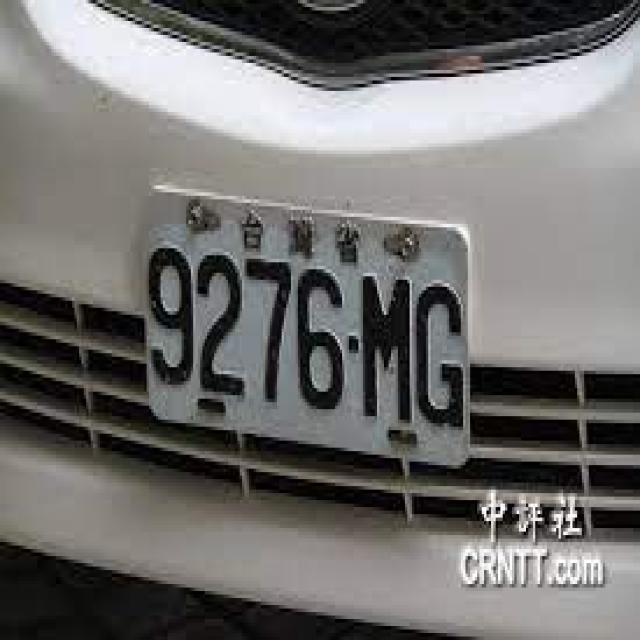license-plate: (136, 168, 477, 487)
